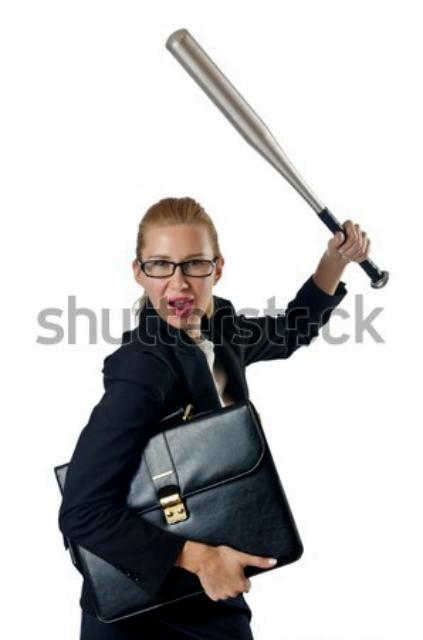baseball bat: (164, 26, 394, 290)
